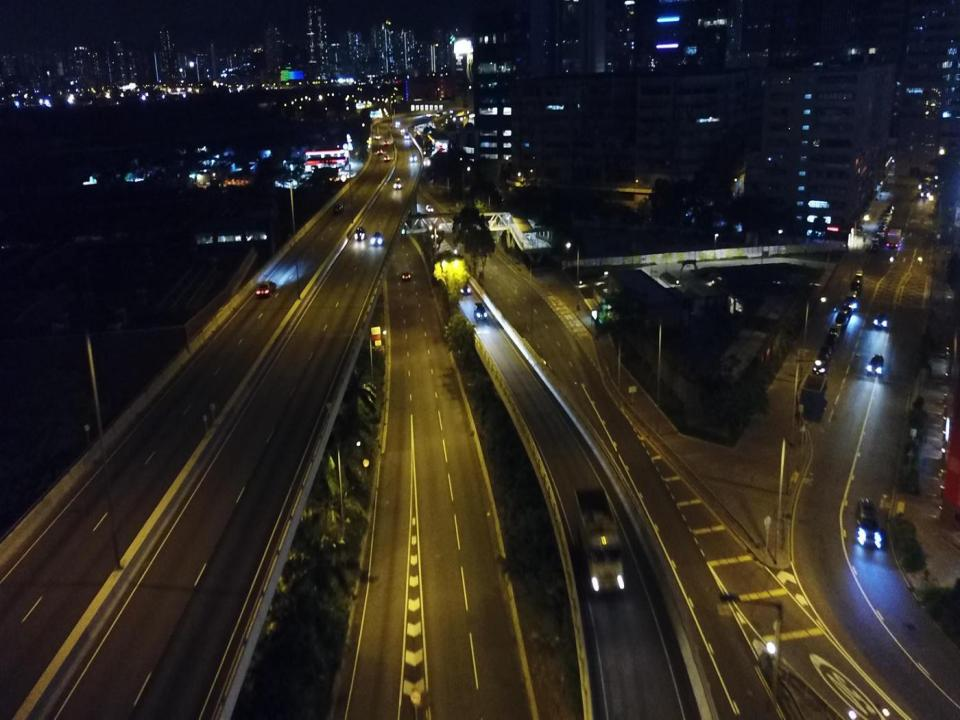bus: (921, 183, 930, 197)
car: (856, 499, 880, 548), (867, 354, 884, 376), (256, 281, 276, 297), (813, 354, 829, 374), (873, 312, 888, 329), (819, 344, 832, 362), (828, 324, 841, 342), (836, 312, 849, 327), (458, 279, 470, 295), (824, 335, 837, 349), (371, 232, 383, 245), (355, 226, 366, 240), (852, 279, 862, 293), (334, 205, 343, 214), (401, 272, 411, 280), (872, 241, 879, 252), (873, 235, 882, 243), (924, 177, 932, 185), (410, 155, 417, 162), (426, 205, 434, 211), (919, 181, 924, 190), (383, 154, 390, 160), (404, 133, 409, 139), (375, 134, 381, 139), (376, 149, 382, 154), (395, 121, 401, 125), (427, 113, 432, 117), (400, 128, 405, 132), (384, 140, 389, 144), (450, 110, 454, 114)
truck: (575, 488, 624, 594), (888, 228, 902, 248)
van: (844, 290, 857, 310), (473, 303, 487, 320), (855, 270, 865, 283), (394, 177, 401, 190), (437, 112, 443, 116)
